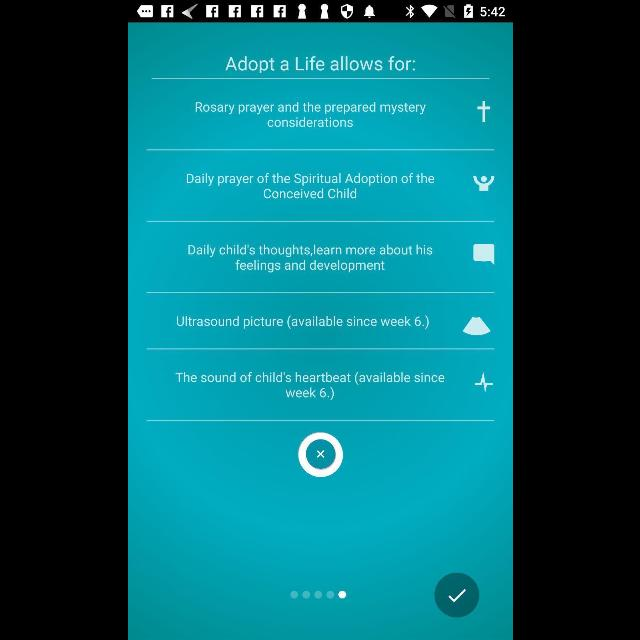button: (297, 432, 343, 478), (434, 572, 478, 618)
icon: (472, 244, 493, 266), (472, 176, 493, 192)
image: (462, 316, 490, 336), (474, 372, 492, 392), (476, 101, 489, 123)
pageindicator: (288, 590, 346, 600)
text: (174, 372, 443, 401), (188, 244, 432, 274), (186, 173, 434, 199), (194, 102, 426, 128), (176, 315, 428, 329), (224, 56, 414, 74)
uppertaskbar: (128, 1, 512, 23)
